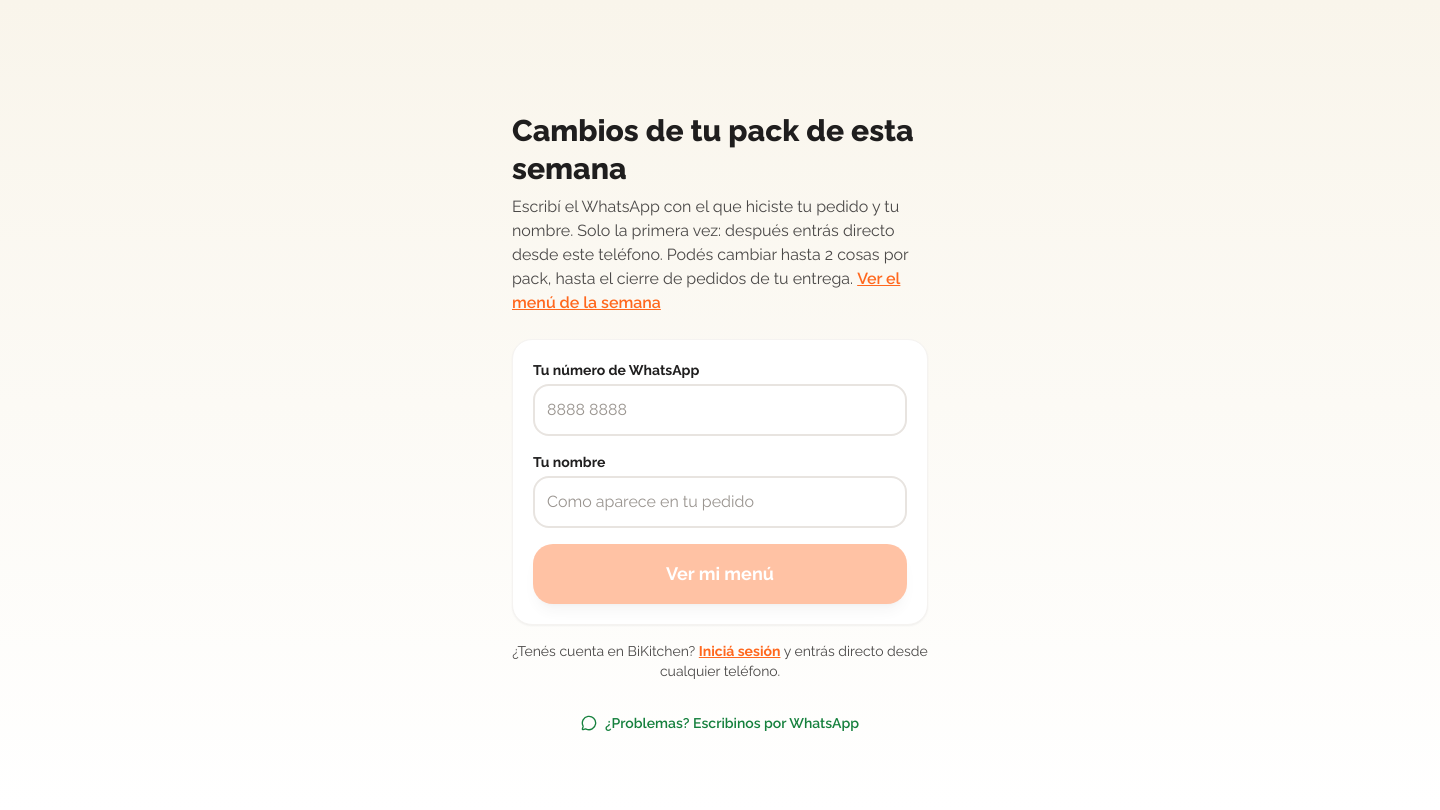
Test: el link fijo /cambios › con un solo pack lo lleva directo a su menú para cambiar
In the field labelled "Tu número de WhatsApp": (720, 410) [533,384,907,436], type "8811 2233"
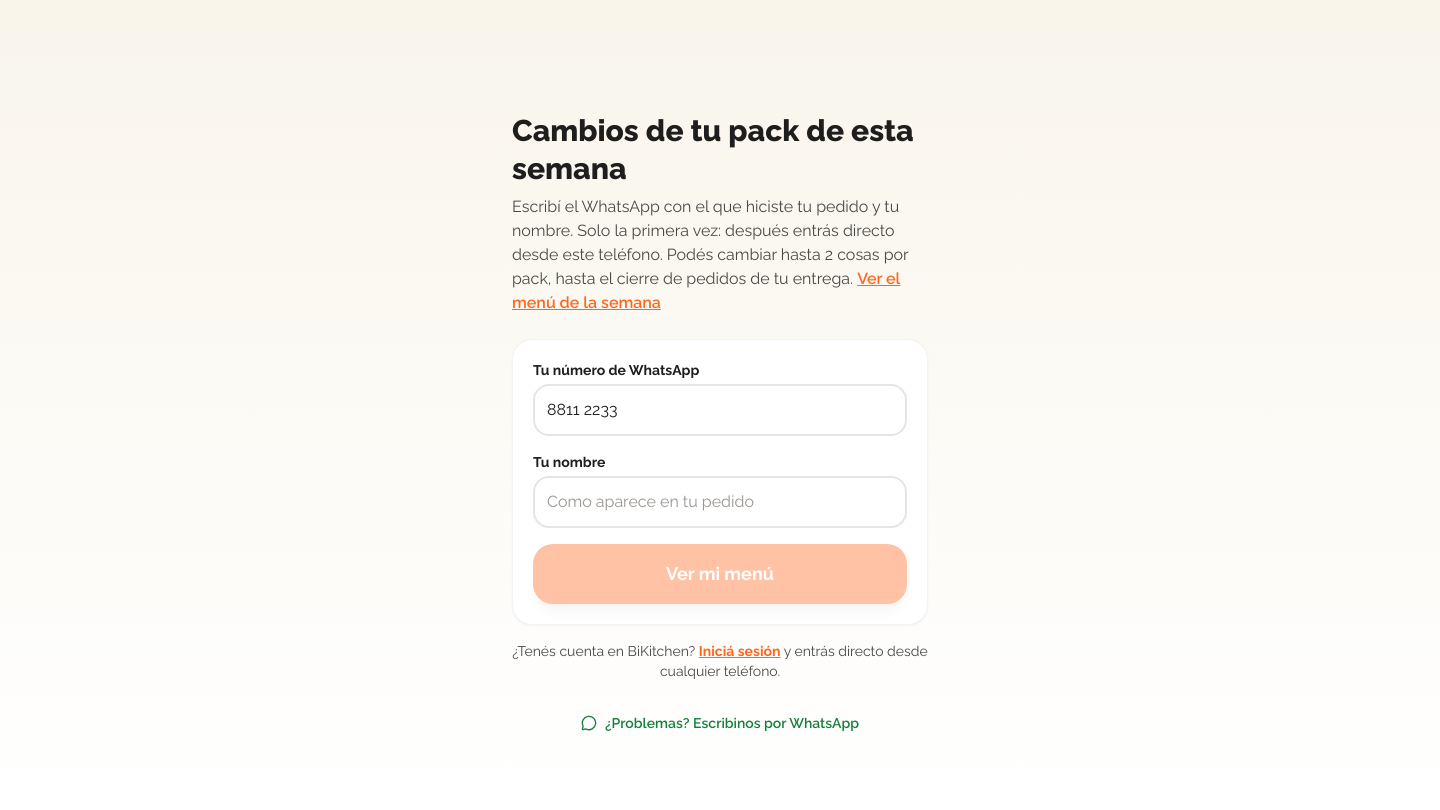
In the field labelled "Tu nombre": (720, 502) [533,476,907,528], type "Ana"
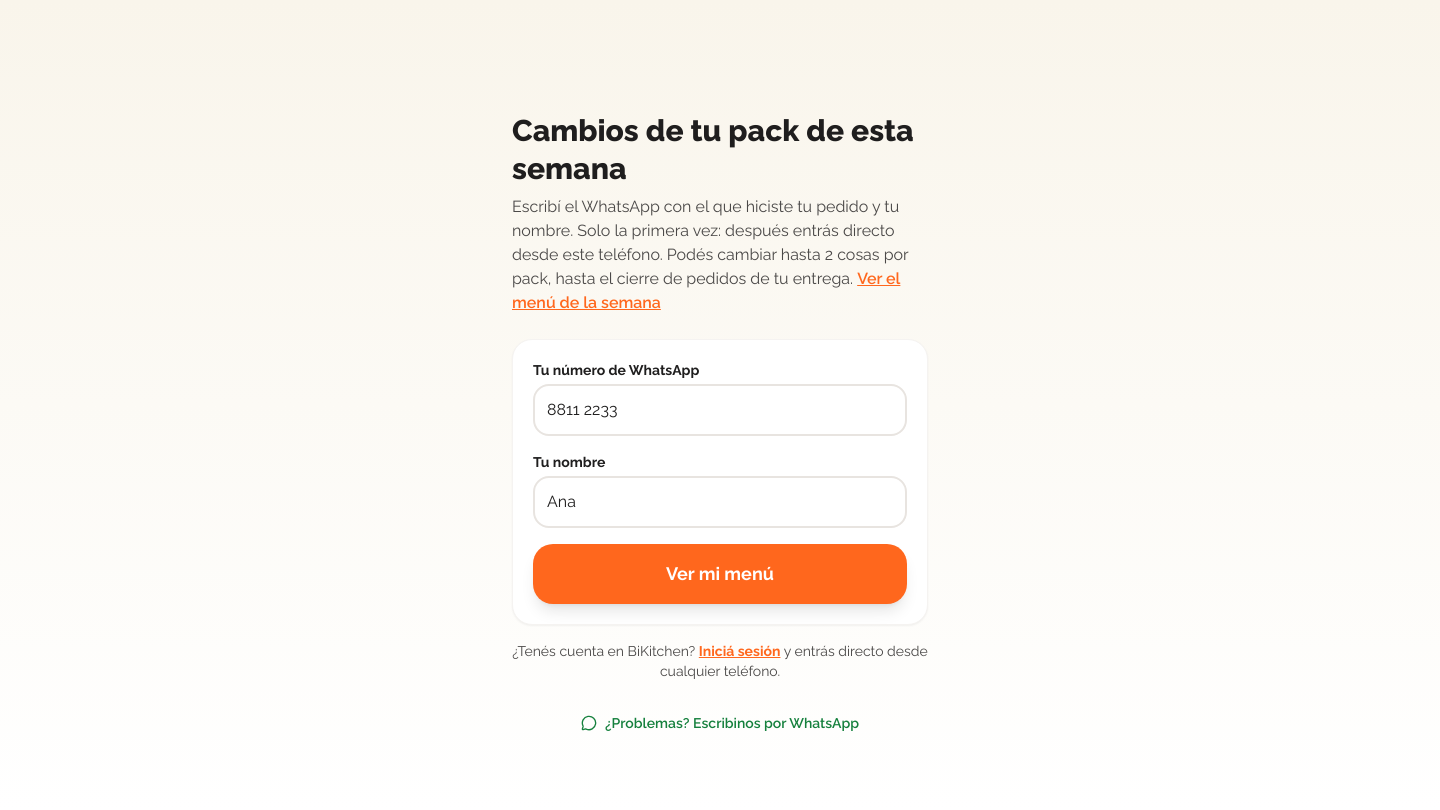
Click the button "Ver mi menú": (720, 574) [533,544,907,604]
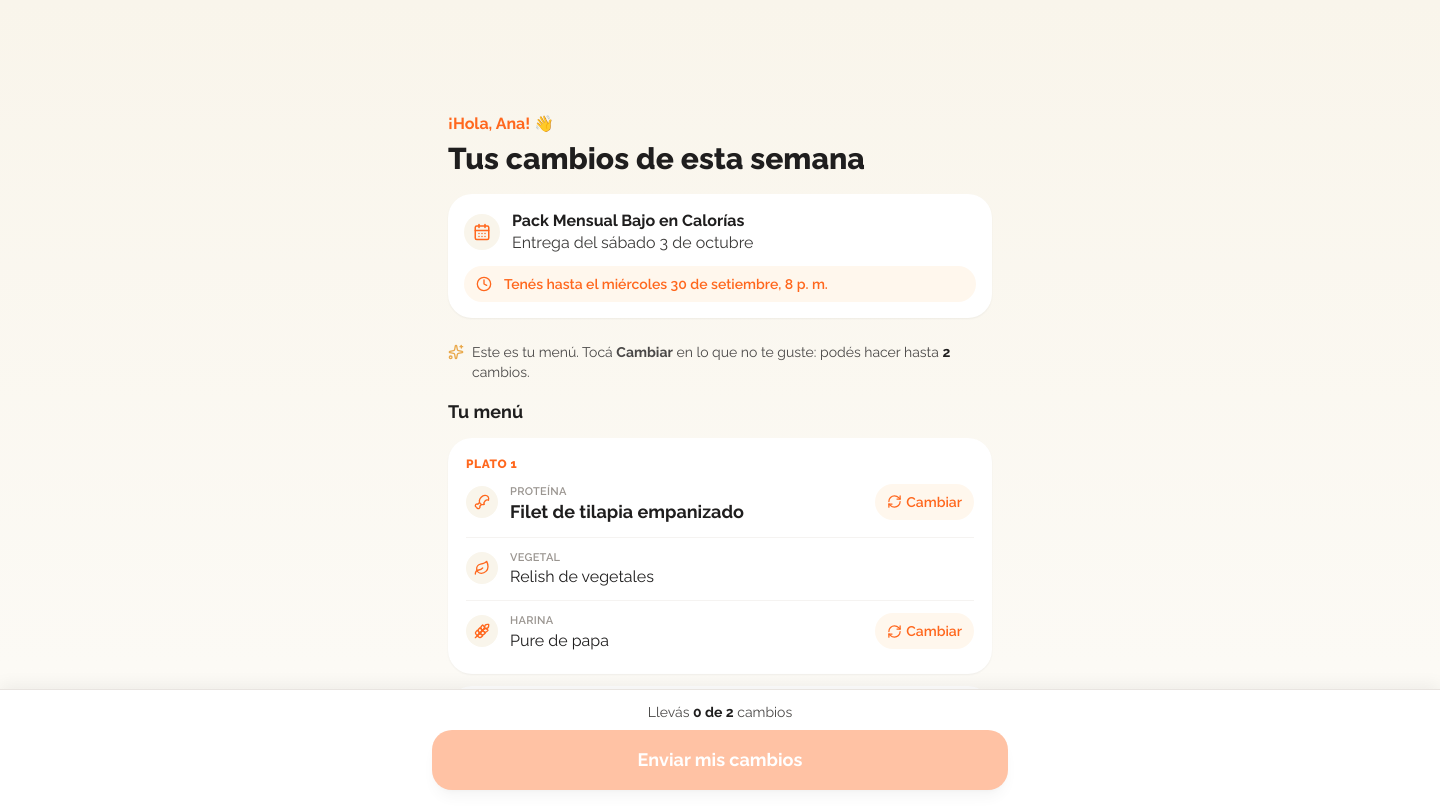
Now the text "¡Hola, Ana! 👋" is shown, box [448,114,554,133]
